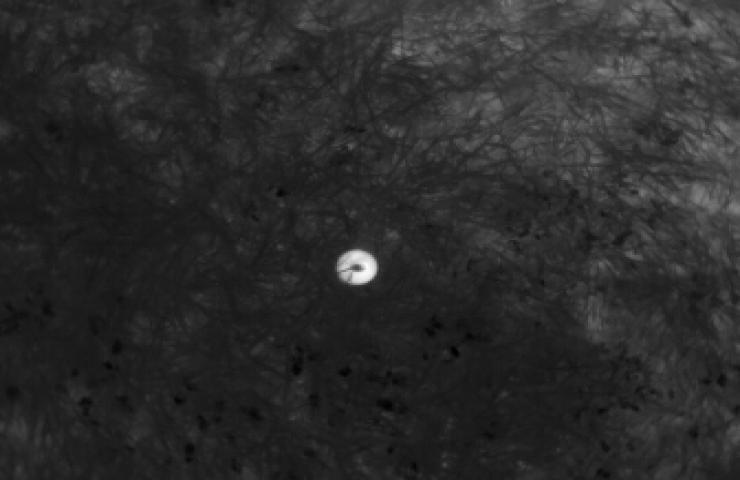landmines: (334, 245, 381, 289)
